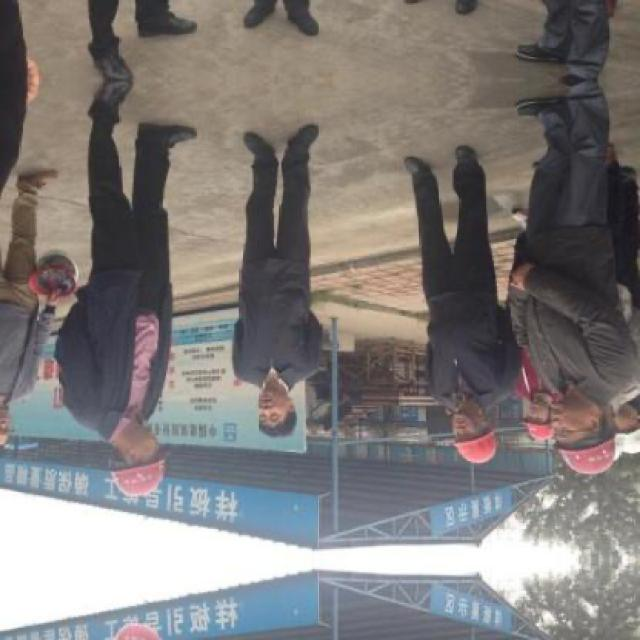con casco: (74, 408, 187, 514), (403, 379, 516, 473), (544, 393, 630, 483), (252, 360, 339, 444)
